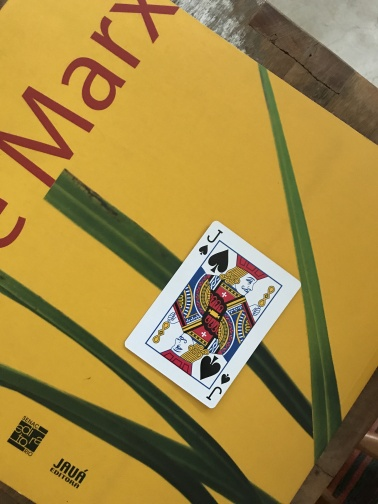jack: (123, 217, 303, 411)
